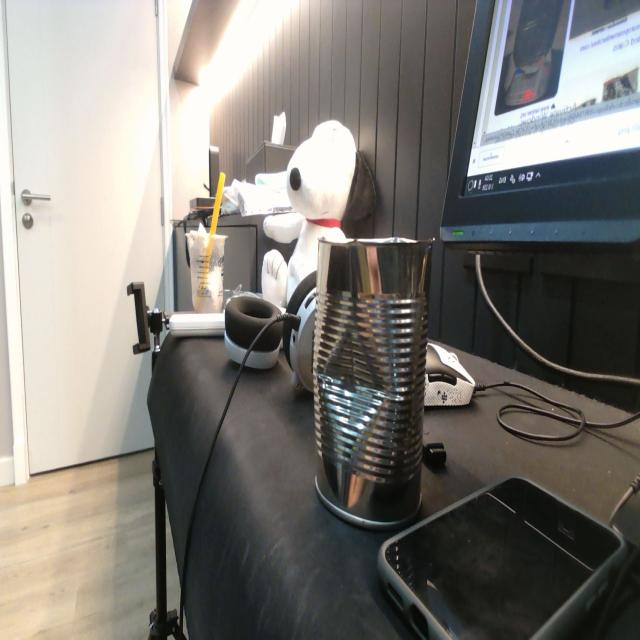metal: (311, 222, 432, 526)
